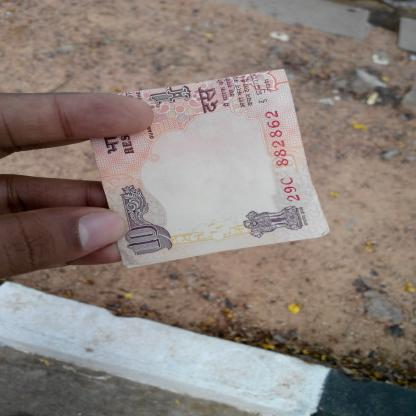Old10Front: (89, 67, 331, 270)
